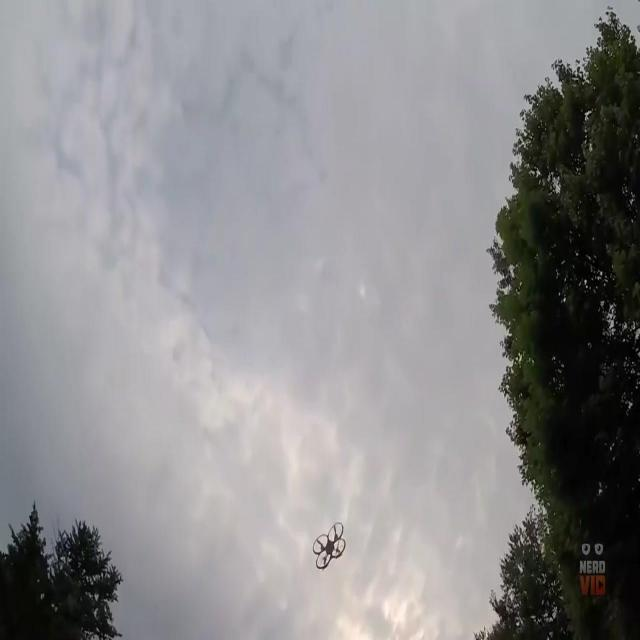UAV: (312, 522, 346, 570)
